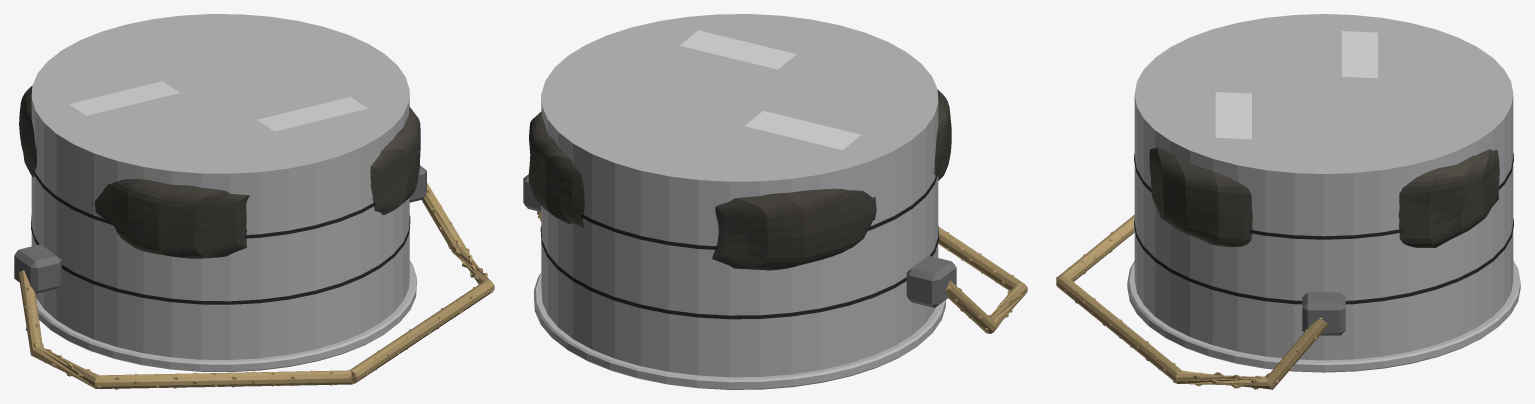
The model's file is capacete_panela.glb.
3 views of the same model, side by side, from view 1: azimuth 30°, elevation 25°; view 2: azimuth 150°, elevation 25°; view 3: azimuth 270°, elevation 25° (orthographic). The views are drawn at different scales.
Parts seen in each view (by area): view 1: capacete_panela_aco_escovado, capacete_panela_acolchoado, capacete_panela_corda, capacete_panela_fita_prata, capacete_panela_carvao, capacete_panela_plastico_preto; view 2: capacete_panela_aco_escovado, capacete_panela_acolchoado, capacete_panela_fita_prata, capacete_panela_corda, capacete_panela_carvao, capacete_panela_plastico_preto; view 3: capacete_panela_aco_escovado, capacete_panela_acolchoado, capacete_panela_corda, capacete_panela_fita_prata, capacete_panela_carvao, capacete_panela_plastico_preto.
Boxes of the visible parts, bbox=[...] form: capacete_panela_aco_escovado: bbox=[31, 14, 416, 371]; capacete_panela_acolchoado: bbox=[19, 86, 420, 258]; capacete_panela_corda: bbox=[18, 183, 494, 389]; capacete_panela_fita_prata: bbox=[69, 81, 367, 131]; capacete_panela_carvao: bbox=[31, 170, 410, 304]; capacete_panela_plastico_preto: bbox=[14, 165, 426, 293]; capacete_panela_aco_escovado: bbox=[534, 14, 945, 389]; capacete_panela_acolchoado: bbox=[528, 89, 951, 270]; capacete_panela_fita_prata: bbox=[680, 30, 861, 149]; capacete_panela_corda: bbox=[537, 211, 1027, 333]; capacete_panela_carvao: bbox=[540, 170, 939, 319]; capacete_panela_plastico_preto: bbox=[523, 174, 956, 307]; capacete_panela_aco_escovado: bbox=[1127, 14, 1520, 372]; capacete_panela_acolchoado: bbox=[1149, 147, 1499, 248]; capacete_panela_corda: bbox=[1056, 215, 1328, 389]; capacete_panela_fita_prata: bbox=[1215, 31, 1377, 139]; capacete_panela_carvao: bbox=[1134, 153, 1513, 304]; capacete_panela_plastico_preto: bbox=[1302, 292, 1345, 335].
Bounding box in the file's own units: 0.278 × 0.1212 × 0.2574.
Materials: 6 (2 with a texture image).
